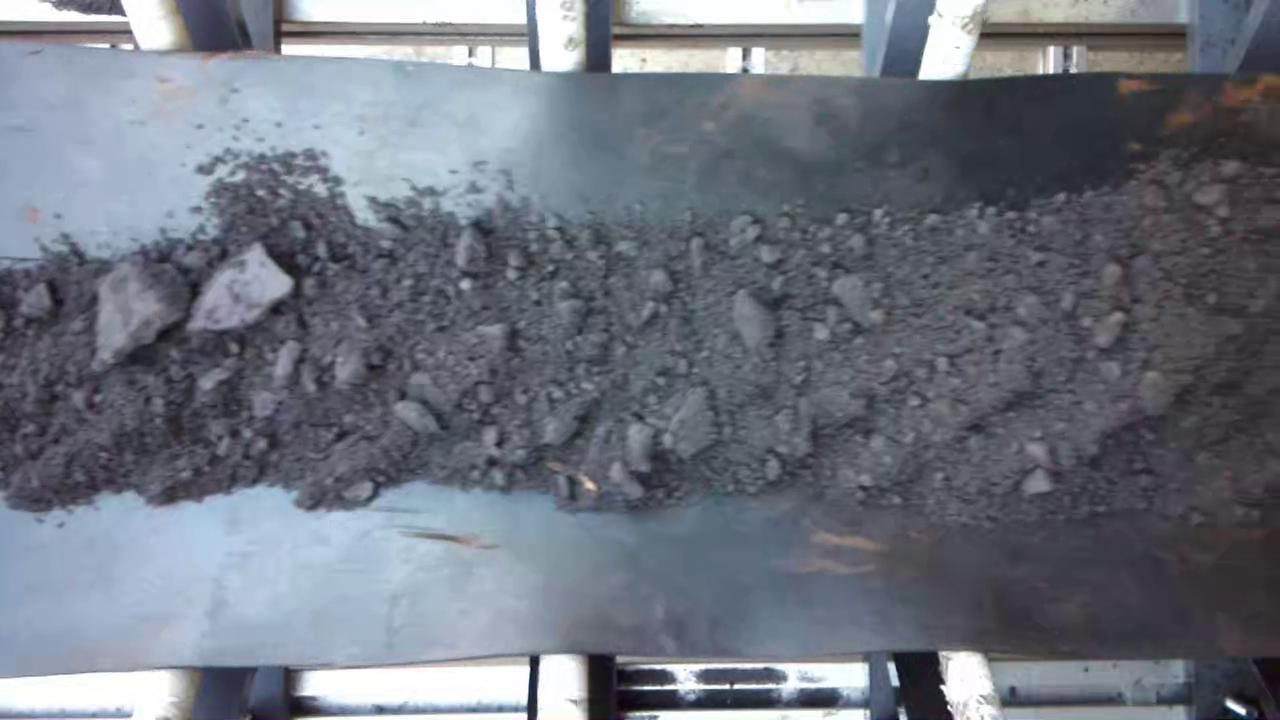conveyor: (5, 81, 1280, 646)
